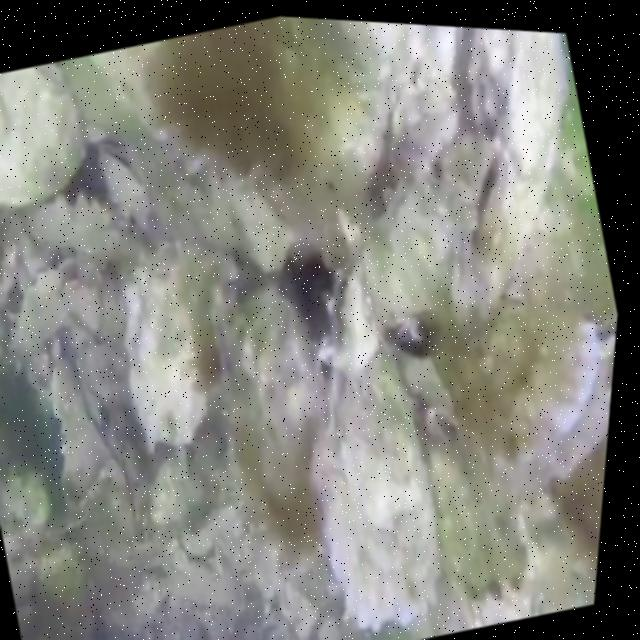Oyster-Closed: (316, 338, 438, 639), (366, 165, 455, 313), (319, 259, 376, 384)
Oyster-Indeterminate: (468, 28, 560, 314), (125, 258, 207, 453), (0, 61, 88, 206), (212, 282, 303, 382)
Oyster-Open: (514, 321, 611, 491), (460, 142, 509, 248)
